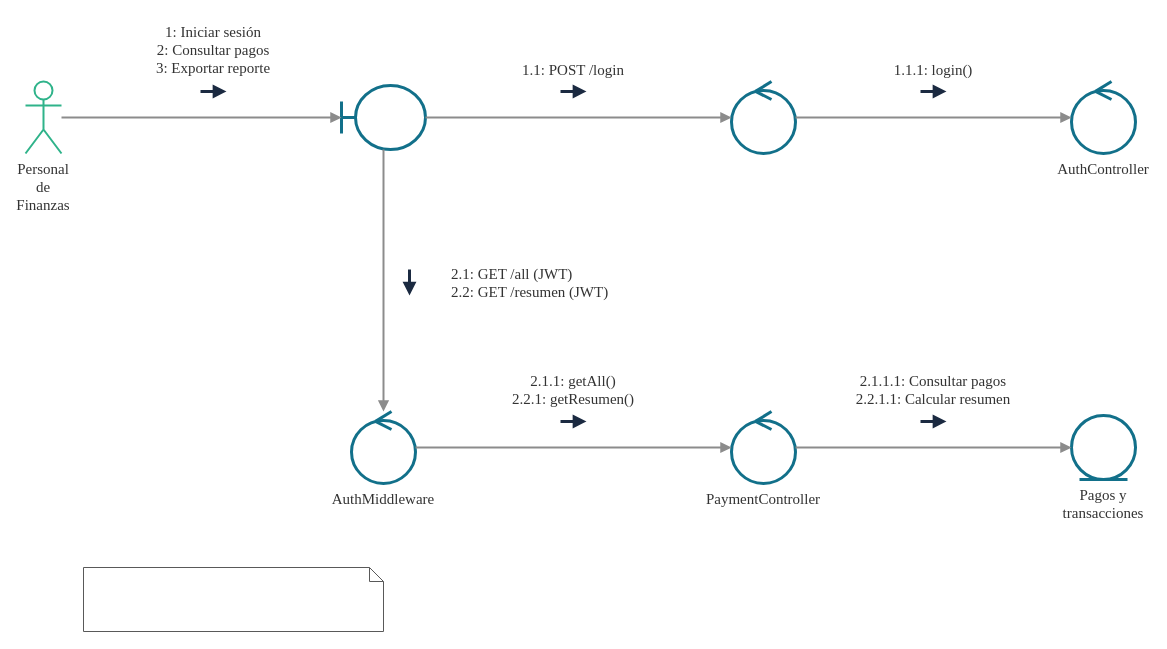
Some shapes in this 1167 by 649 pixel diagram are drawn without their labels. Each missing label, with the centre of its shape:
"3.1: El panel genera el reporte PDF / CSV en el navegador (jsPDF)" goes at point 233,599.
"LoginRateLimit" goes at point 763,117.
"Panel de conciliación" goes at point 383,117.
